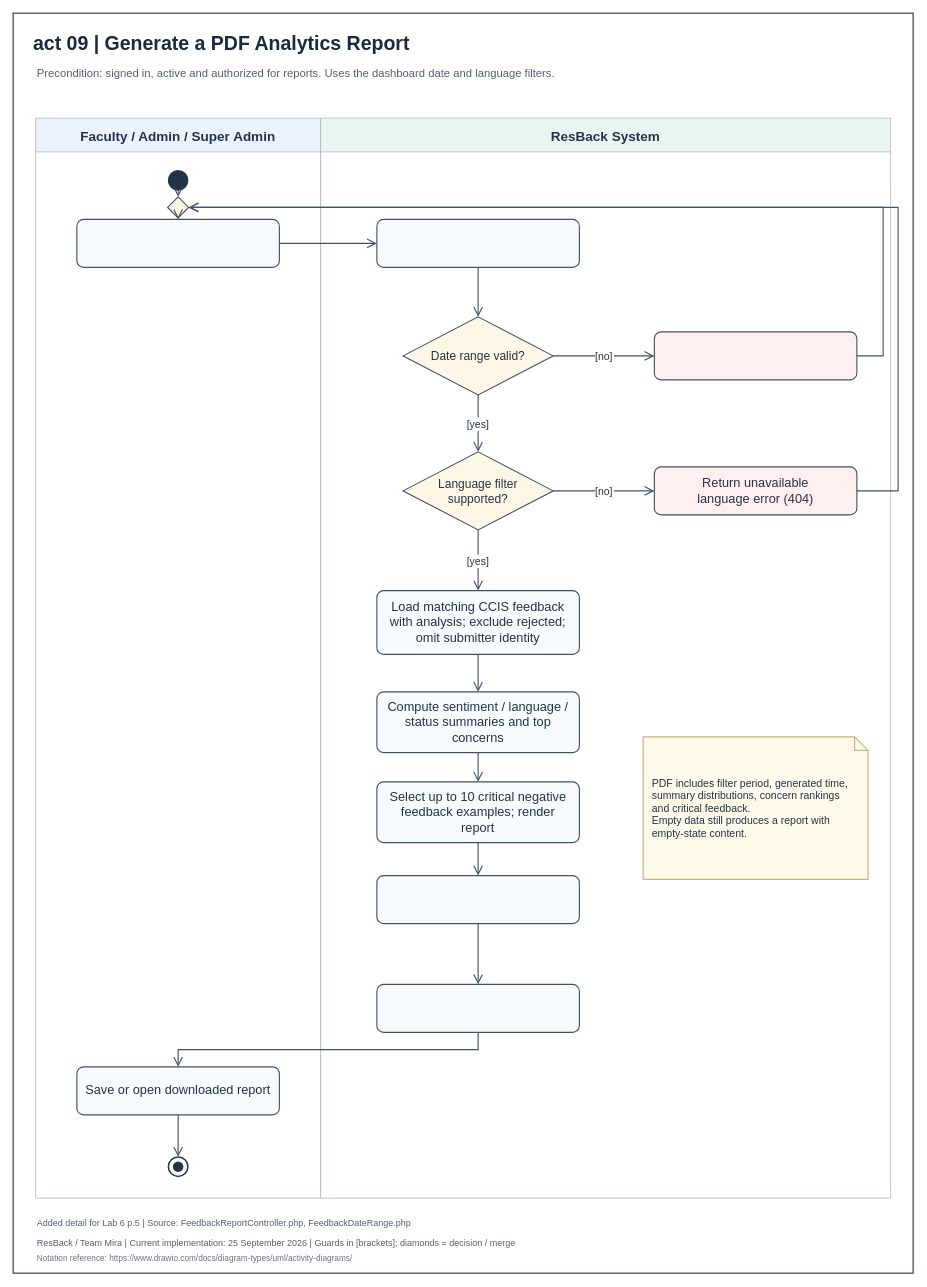
This 927x1287 diagram has some shape labels left out. Here are the shapes that lost their labels. From the top down, the centre of each, then its label:
At [178,243]: "Choose Download PDF Report from the dashboard".
At [478,243]: "Validate date range and selected language".
At [755,355]: "Return date validation errors".
At [478,899]: "Generate paginated A4 PDF".
At [478,1008]: "Return downloadable PDF file".
